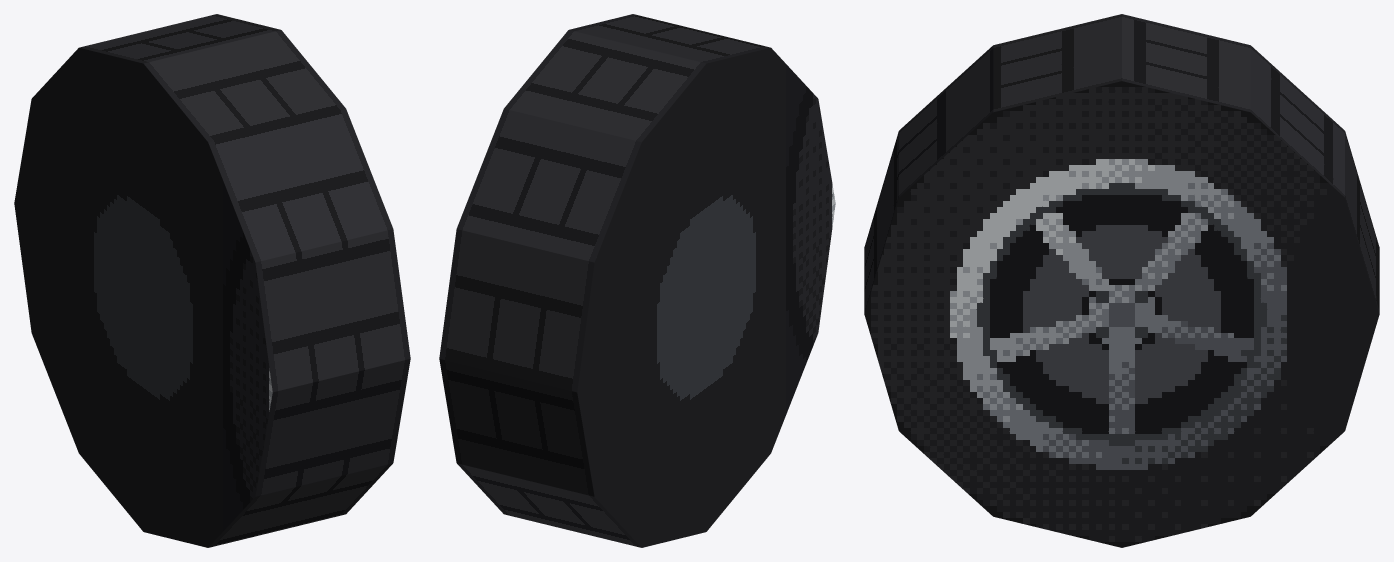
Rendered from wheel_dish.glb.
3 views of the same model, side by side, from view 1: azimuth 30°, elevation 25°; view 2: azimuth 150°, elevation 25°; view 3: azimuth 270°, elevation 25° (orthographic).
Parts seen in each view (by area): view 1: wheel_dish; view 2: wheel_dish; view 3: wheel_dish.
Part boxes in pixels (bbox=[...]): wheel_dish: bbox=[14, 14, 410, 547]; wheel_dish: bbox=[439, 14, 835, 547]; wheel_dish: bbox=[864, 14, 1379, 547].
Size of the model in its own units: 0.225 by 0.7301 by 0.7301.
Materials: 1 (1 with a texture image).
